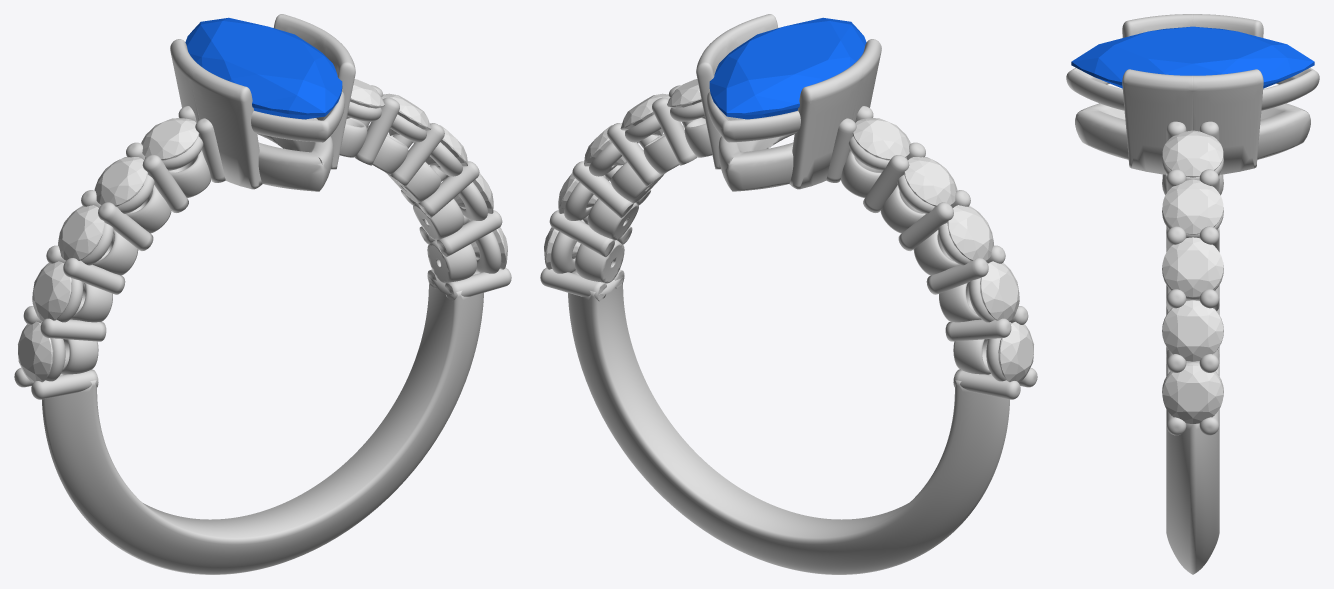
The model's file is bluesapphire-marquise-platinum-halfmoonbezel-knifeedge-11stone.glb.
The picture shows the model from 3 angles, left to right: view 1: azimuth 30°, elevation 25°; view 2: azimuth 150°, elevation 25°; view 3: azimuth 270°, elevation 25°; orthographic projection. The views are drawn at different scales.
Visible parts, largest first — view 1: metal.003, stone.002, dia.024, dia.025, dia.023, dia.026, dia.002, dia.030, dia.031; view 2: metal.003, stone.002, dia.024, dia.025, dia.023, dia.026, dia.002, dia.030, dia.031; view 3: metal.003, stone.002, dia.028, dia.029, dia.027, dia.030, dia.031.
Part boxes in pixels (x1=…): metal.003: x1=14, y1=14, x2=511, y2=574; stone.002: x1=185, y1=17, x2=342, y2=119; dia.024: x1=58, y1=205, x2=104, y2=260; dia.025: x1=94, y1=157, x2=147, y2=206; dia.023: x1=32, y1=261, x2=71, y2=320; dia.026: x1=141, y1=118, x2=199, y2=160; dia.002: x1=18, y1=321, x2=53, y2=382; dia.030: x1=381, y1=93, x2=431, y2=135; dia.031: x1=346, y1=79, x2=384, y2=118; metal.003: x1=540, y1=14, x2=1037, y2=574; stone.002: x1=709, y1=17, x2=866, y2=119; dia.024: x1=947, y1=205, x2=993, y2=260; dia.025: x1=904, y1=157, x2=957, y2=206; dia.023: x1=980, y1=261, x2=1019, y2=320; dia.026: x1=852, y1=118, x2=910, y2=160; dia.002: x1=998, y1=321, x2=1033, y2=382; dia.030: x1=620, y1=93, x2=670, y2=135; dia.031: x1=667, y1=79, x2=705, y2=118; metal.003: x1=1066, y1=14, x2=1319, y2=574; stone.002: x1=1071, y1=26, x2=1314, y2=88; dia.028: x1=1162, y1=300, x2=1223, y2=361; dia.029: x1=1162, y1=237, x2=1223, y2=296; dia.027: x1=1162, y1=365, x2=1223, y2=423; dia.030: x1=1162, y1=179, x2=1223, y2=234; dia.031: x1=1162, y1=130, x2=1223, y2=177.
Size of the model in its own units: 22.1 by 22.93 by 10.4.
